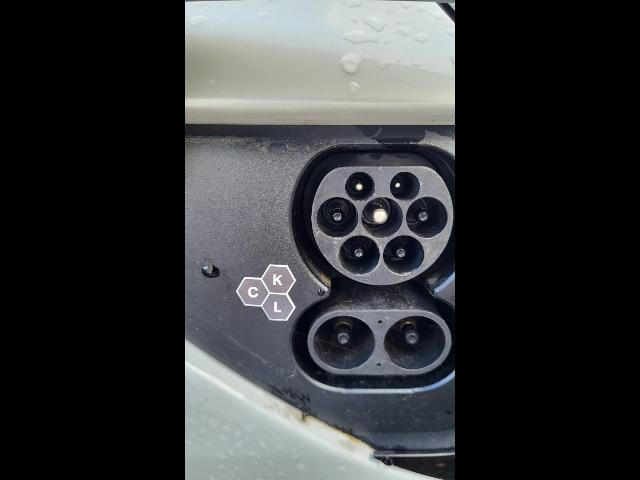inlet: (311, 167, 454, 286)
inlet-above-left: (345, 171, 376, 201)
inlet-above-right: (390, 172, 420, 200)
inlet-below-left: (339, 235, 379, 275)
inlet-below-right: (384, 236, 425, 275)
inlet-circle: (362, 197, 403, 238)
inlet-circle-left: (317, 197, 359, 239)
inlet-circle-right: (406, 196, 447, 238)
inlet-minus: (384, 316, 446, 369)
inlet-plus: (313, 315, 375, 369)
